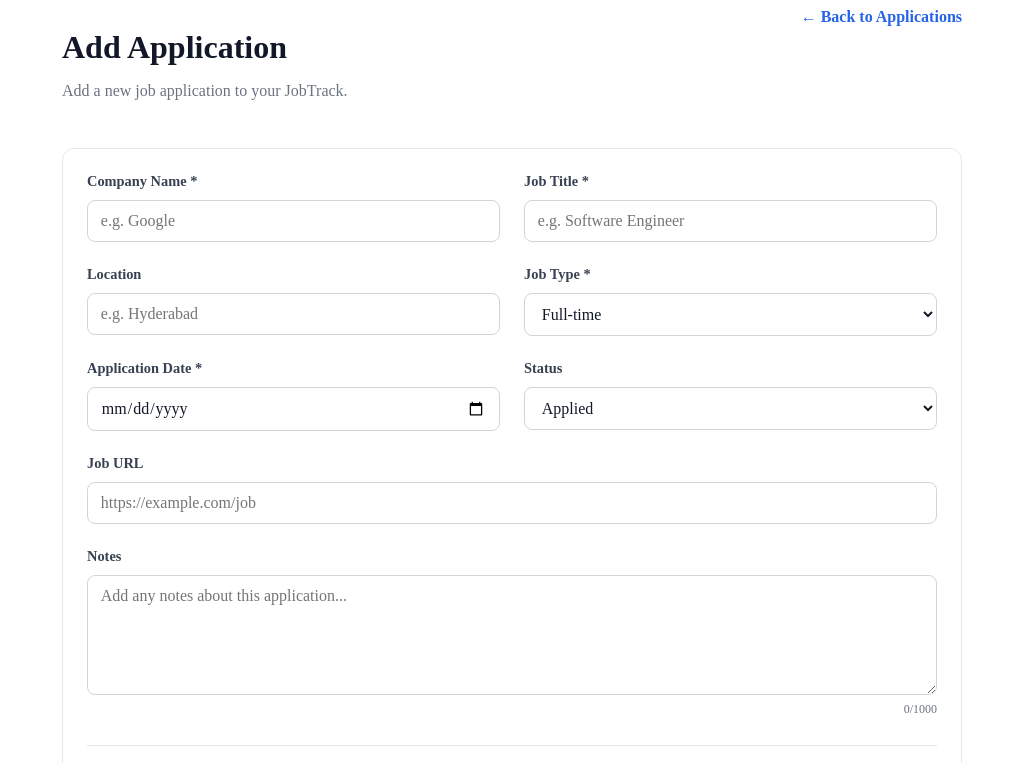
Test case: AddApplication page › shows an error when the API request fails
This screenshot has width=1024, height=763.
In the field labelled "Company Name *": (294, 221) top-left (87, 200), bottom-right (500, 242), type "Example Corp"
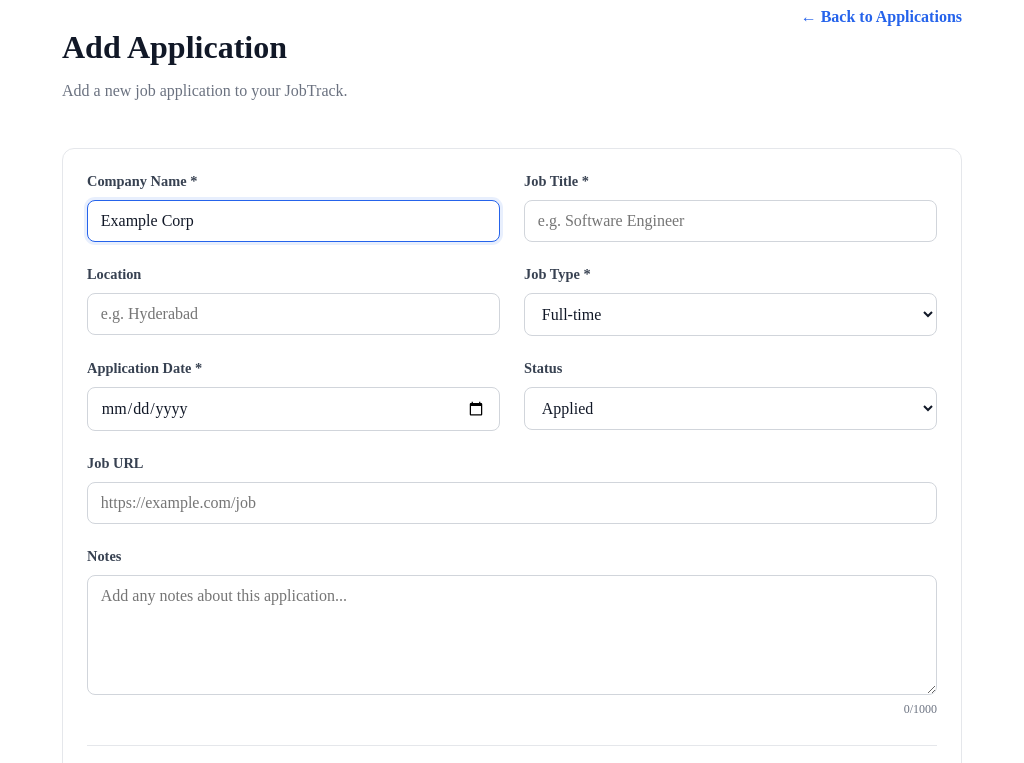
In the field labelled "Job Title *": (730, 221) top-left (524, 200), bottom-right (937, 242), type "Frontend Developer"
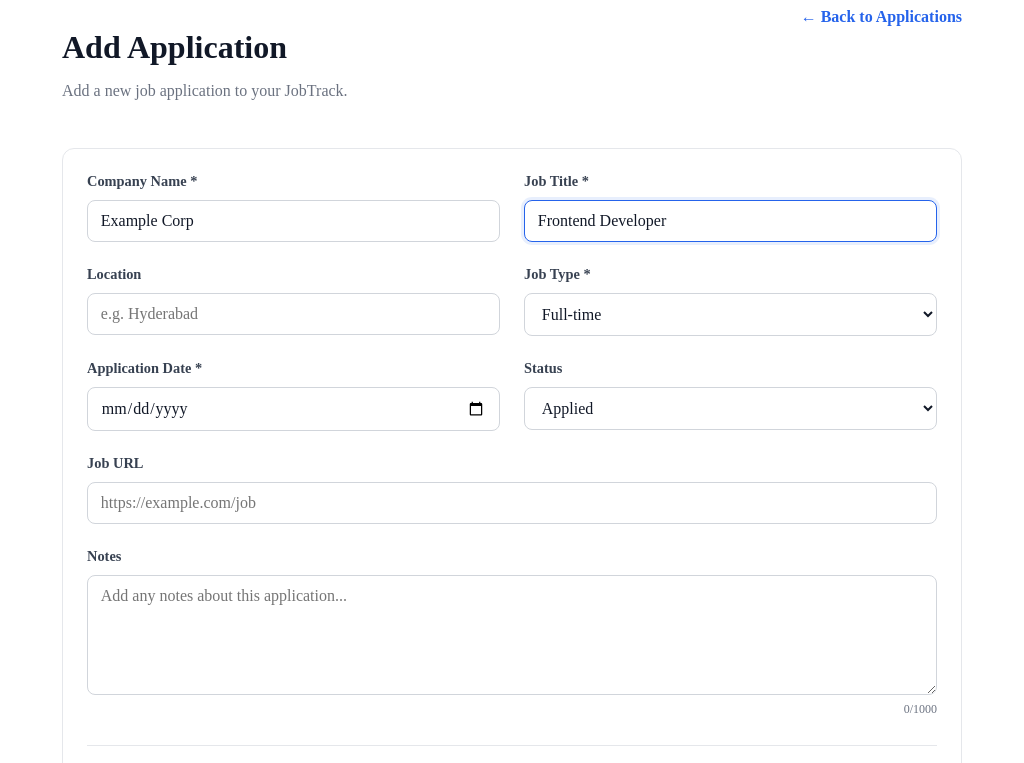
In the date field labelled "Application Date *": (294, 409) top-left (87, 387), bottom-right (500, 431), type "2026-10-09"
(page scrolled)
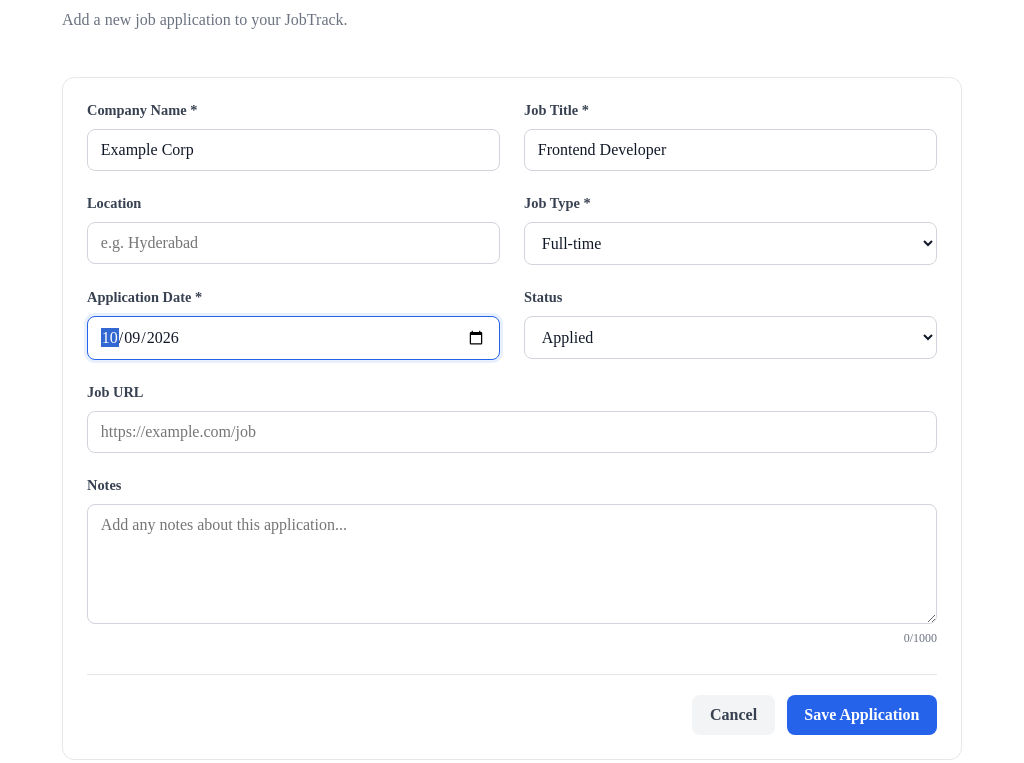
Click the button "Save Application": click(862, 715) top-left (787, 695), bottom-right (937, 736)
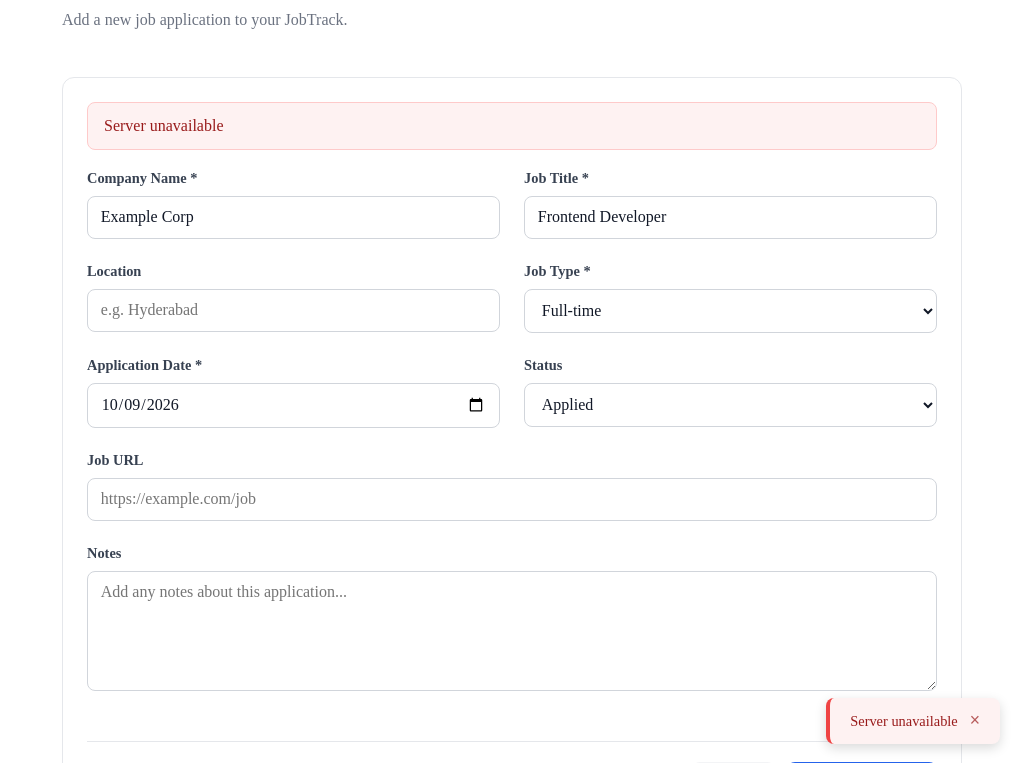
Result: the text "Server unavailable" is shown at top-left (87, 102), bottom-right (937, 150)
